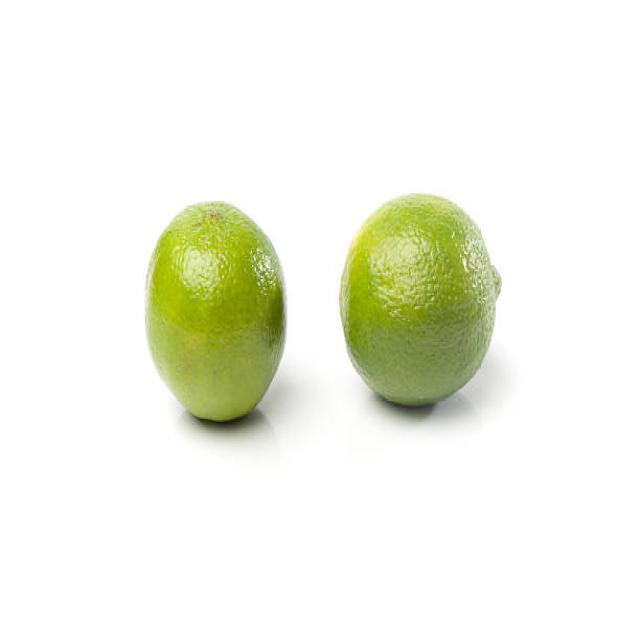Unripe: (336, 191, 502, 409), (144, 199, 288, 424)
